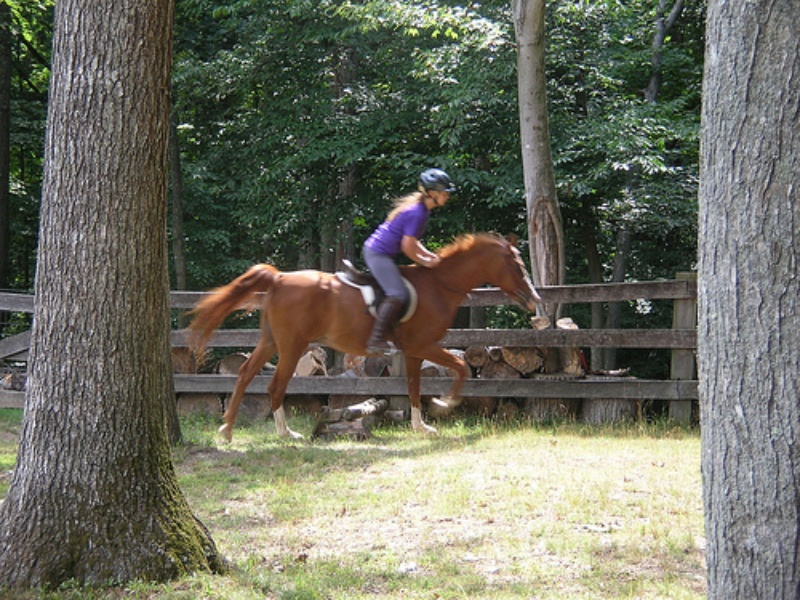person: (360, 167, 454, 353)
